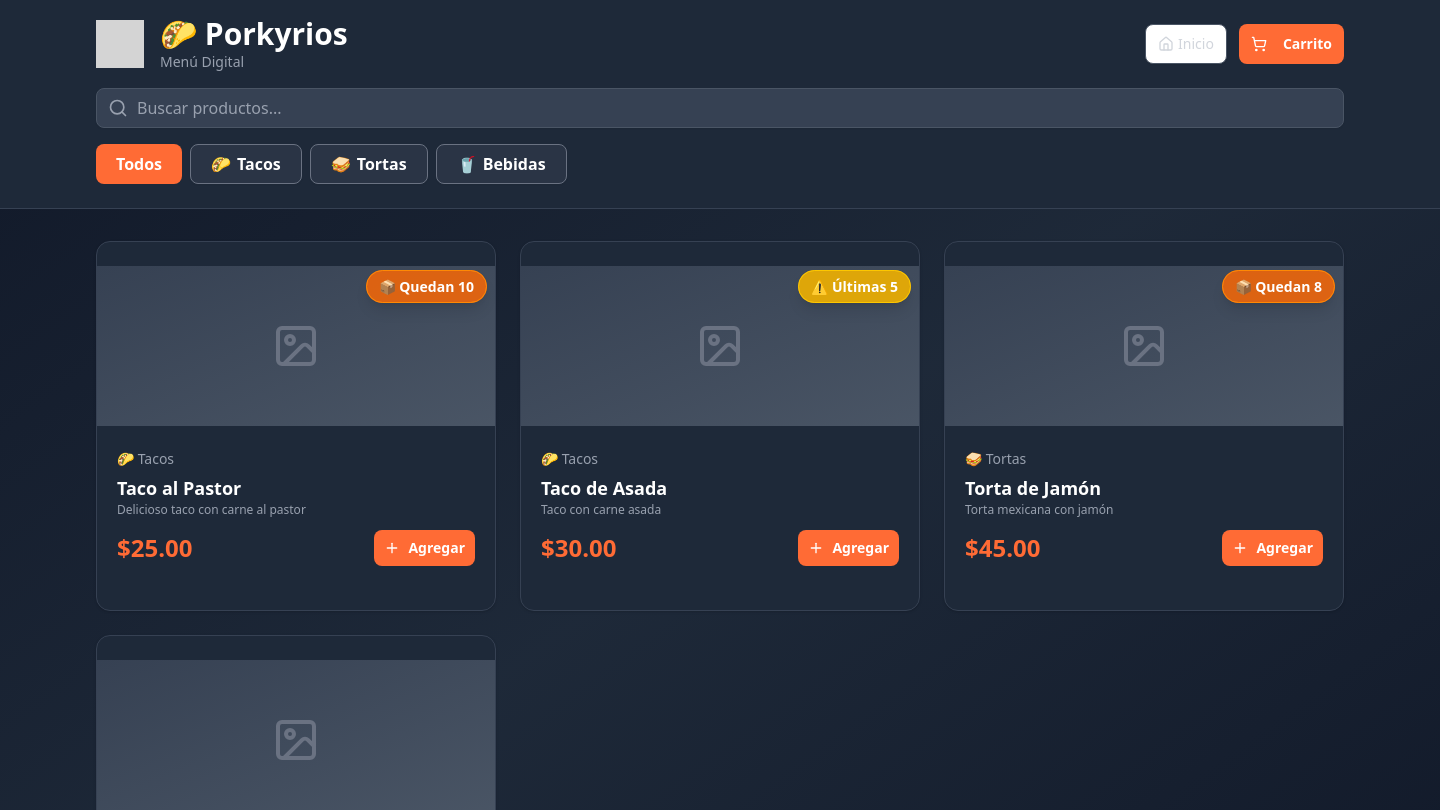
MenuPage Component › Category Filters › should show all products when "Todos" is clicked
Expected: the heading "Taco al Pastor" is shown, [117, 476, 241, 500]
First filter by category
Click the button "🌮 Tacos". click: (246, 164)
box: [190, 144, 302, 184]
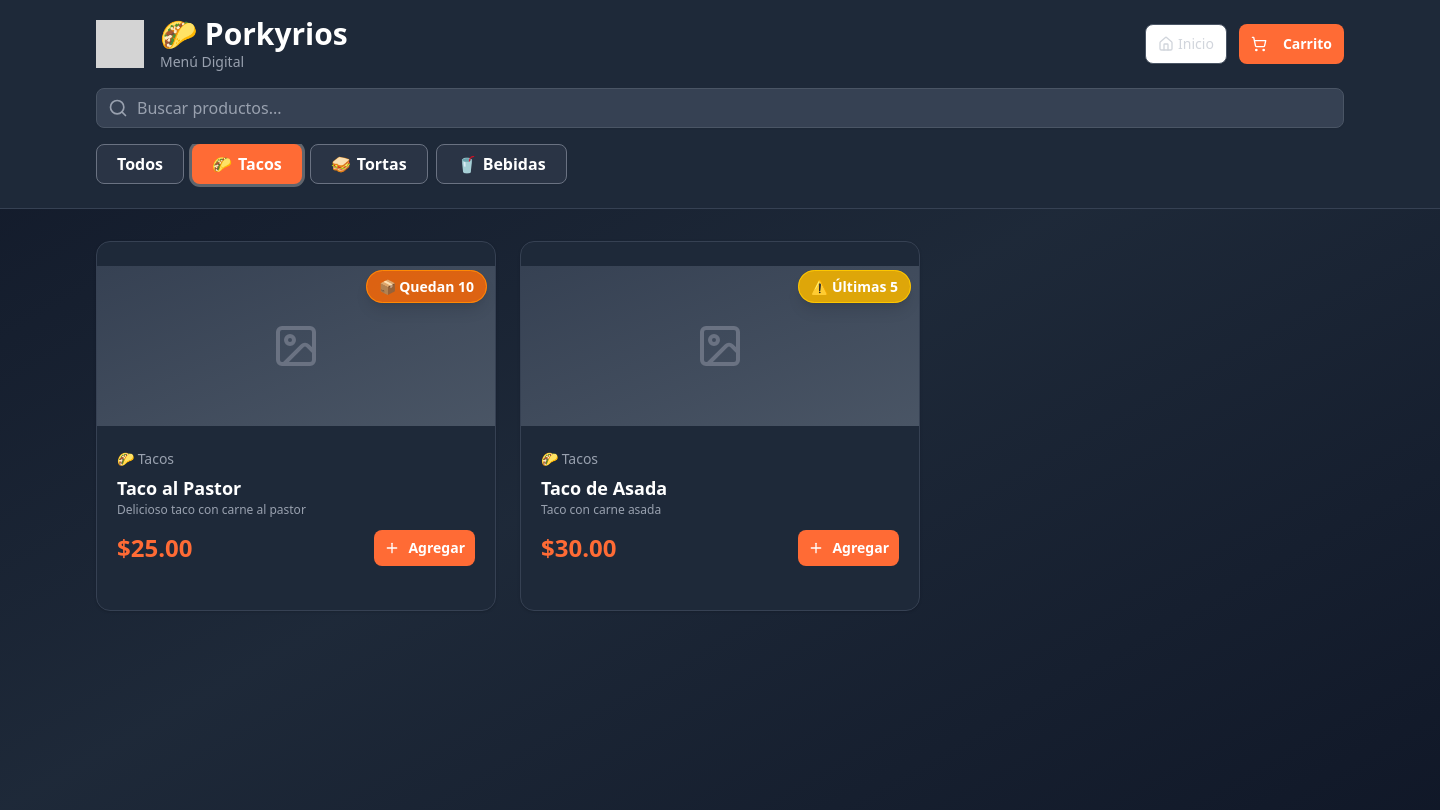
Result: the heading "Torta de Jamón" is gone
Click the button "Todos". click: (140, 164)
box: [96, 144, 184, 184]
(page scrolled)
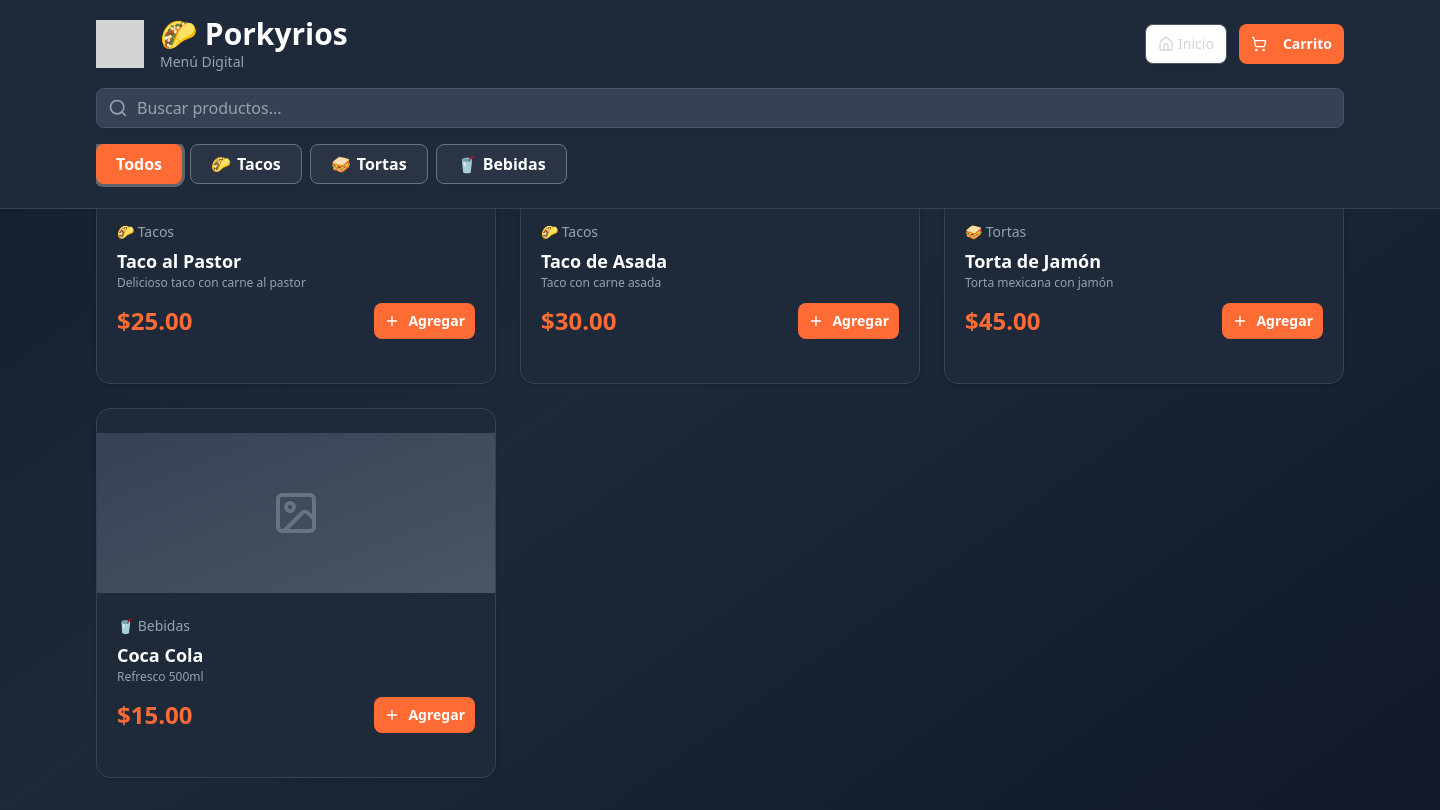
Expected: the heading "Taco al Pastor" is shown, [117, 249, 241, 273]
Result: the heading "Torta de Jamón" is shown at [965, 249, 1101, 273]
Result: the heading "Coca Cola" is shown at [117, 643, 203, 667]
